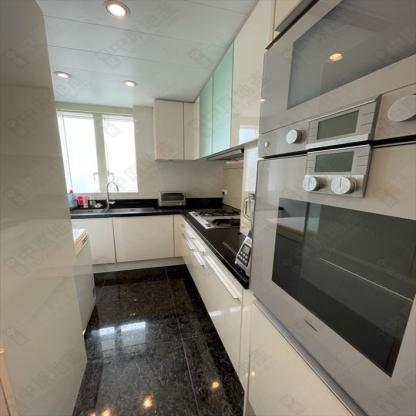Cupboard: (69, 213, 249, 388), (152, 49, 234, 159)
Exhaust Hood: (205, 148, 243, 161)
Faucet: (101, 180, 120, 207)
Oven: (244, 0, 415, 415)
Sink: (71, 206, 157, 213)
Stove: (188, 209, 240, 229)
